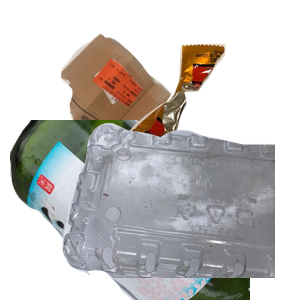cardboard: (58, 31, 222, 188)
glass: (10, 120, 250, 300)
plastic: (60, 120, 300, 300)
trash: (122, 41, 300, 190)
